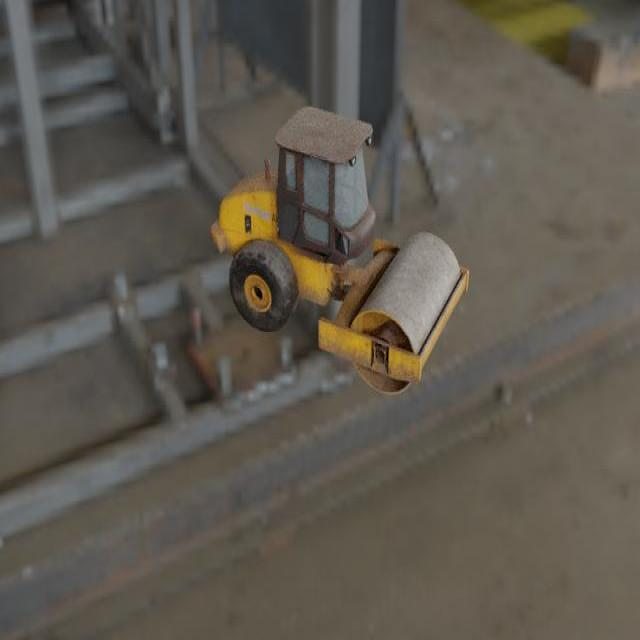Roller: (210, 105, 469, 395)
